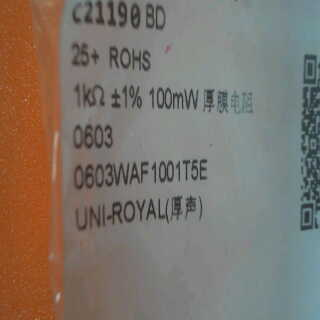1kR: (72, 79, 108, 113)
